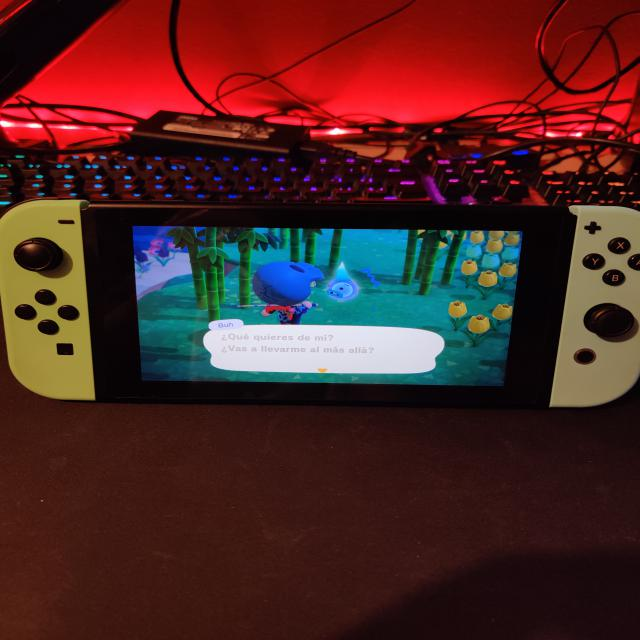text_bubble: (203, 319, 448, 378)
